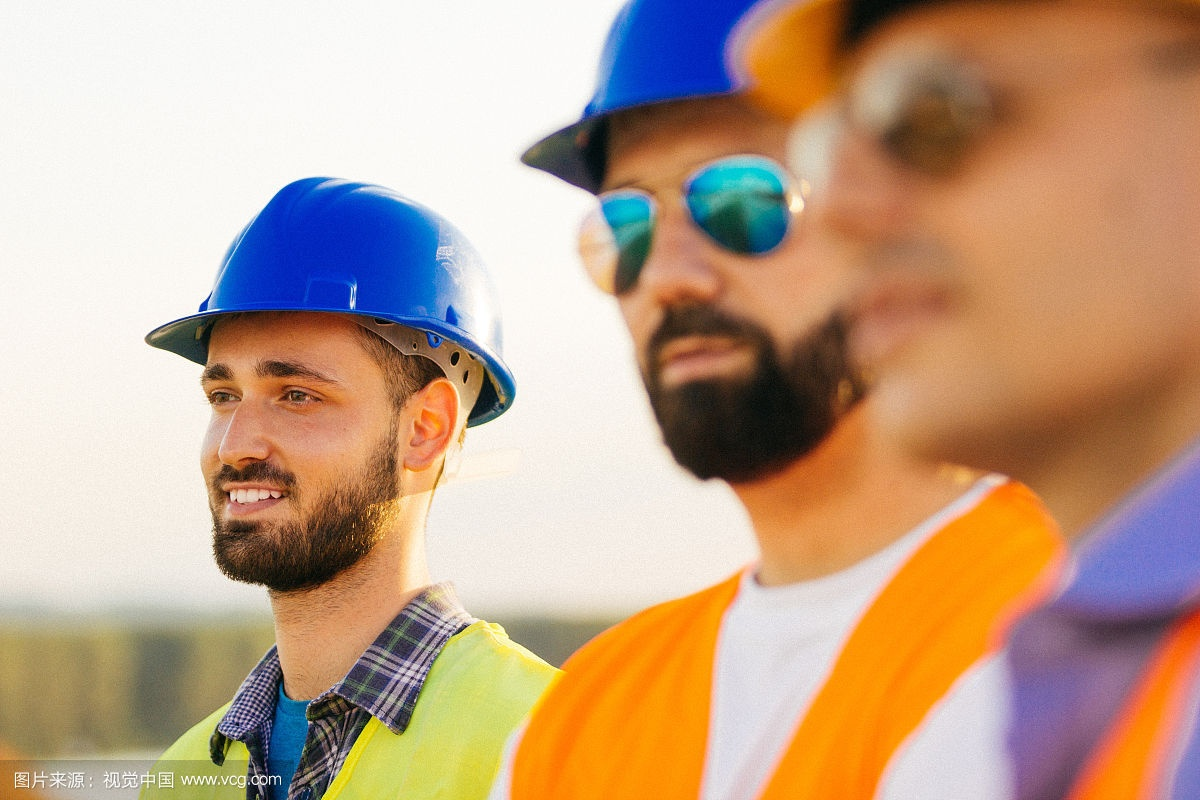blue: (576, 6, 879, 494), (184, 170, 501, 595)
